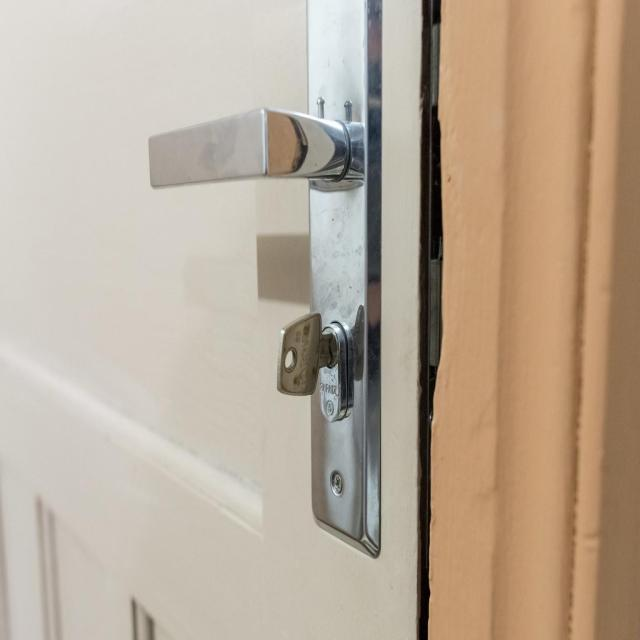Frontdoor keys: (274, 311, 336, 398)
